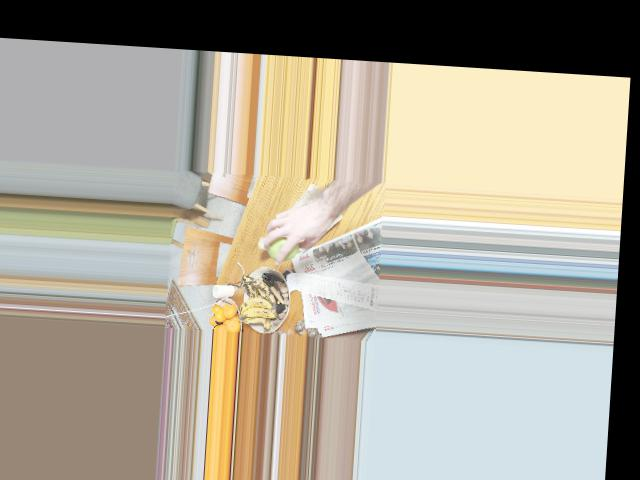apple: (264, 226, 302, 262)
